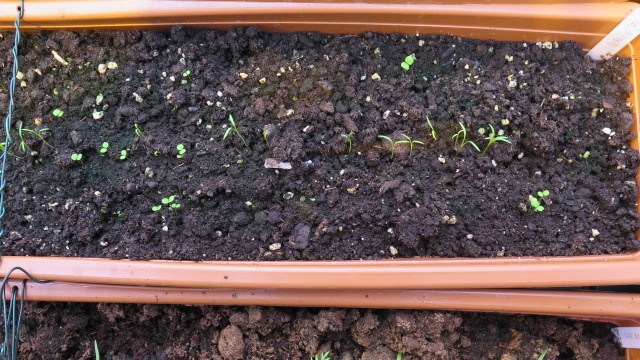crop: (478, 124, 514, 157), (456, 121, 479, 160), (222, 116, 248, 147), (379, 134, 408, 160), (20, 126, 54, 146), (402, 134, 426, 159), (424, 114, 443, 141), (339, 132, 361, 154)
weed: (400, 53, 414, 73), (529, 199, 548, 213), (172, 142, 188, 155), (116, 147, 130, 161), (98, 138, 108, 156), (68, 152, 86, 162), (535, 189, 553, 197), (52, 108, 65, 118), (181, 69, 192, 78), (161, 196, 172, 204), (151, 206, 160, 212)
